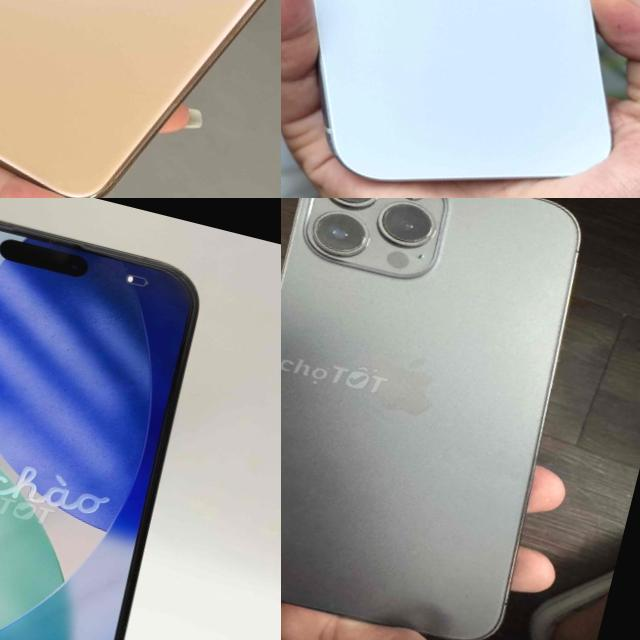gen_11: (0, 0, 281, 198)
gen_12_13: (281, 198, 613, 640)
gen_15: (0, 198, 240, 640), (281, 0, 640, 198)
